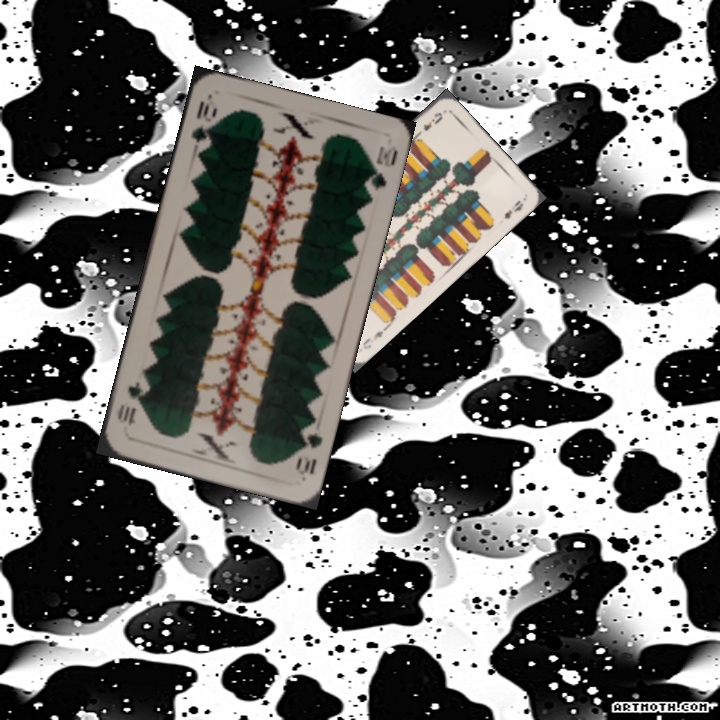E9: (413, 108, 445, 139), (358, 323, 389, 352)
G10: (291, 420, 325, 477), (187, 97, 219, 154)
